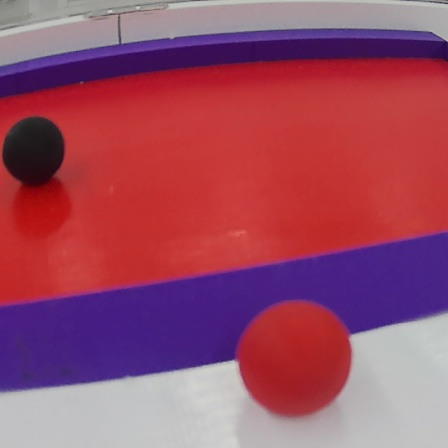black: (5, 114, 66, 189)
red: (238, 299, 359, 421)
red_aim: (3, 32, 448, 397)
